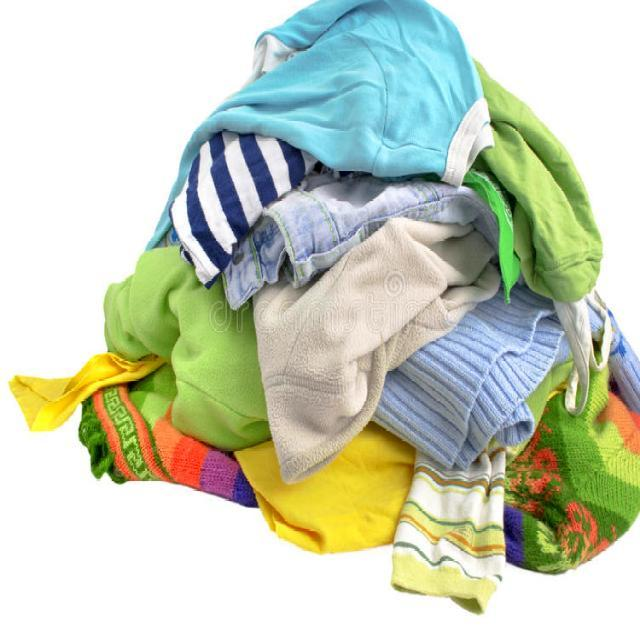clothes: (188, 0, 640, 606)
